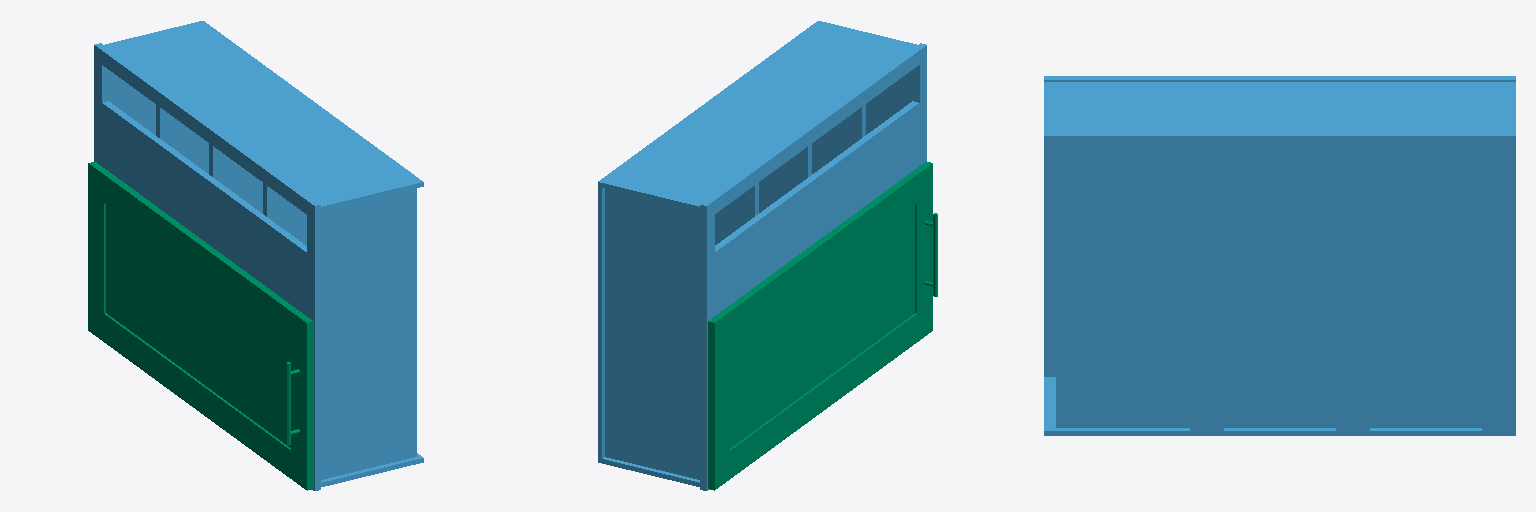
robot.urdf — partnet_ba6599d00e879e11c59350d819542ec7:
<?xml version="1.0" ?>
<robot name="partnet_ba6599d00e879e11c59350d819542ec7">
	<link name="base"/>
	<link name="link_0">
		<visual name="vertical_side_panel-6">
			<origin xyz="0 0 0"/>
			<geometry>
				<mesh filename="textured_objs/original-14.obj"/>
			</geometry>
		</visual>
		<visual name="vertical_side_panel-6">
			<origin xyz="0 0 0"/>
			<geometry>
				<mesh filename="textured_objs/original-15.obj"/>
			</geometry>
		</visual>
		<visual name="vertical_side_panel-7">
			<origin xyz="0 0 0"/>
			<geometry>
				<mesh filename="textured_objs/original-3.obj"/>
			</geometry>
		</visual>
		<visual name="vertical_side_panel-7">
			<origin xyz="0 0 0"/>
			<geometry>
				<mesh filename="textured_objs/original-2.obj"/>
			</geometry>
		</visual>
		<visual name="vertical_divider_panel-8">
			<origin xyz="0 0 0"/>
			<geometry>
				<mesh filename="textured_objs/original-22.obj"/>
			</geometry>
		</visual>
		<visual name="vertical_divider_panel-9">
			<origin xyz="0 0 0"/>
			<geometry>
				<mesh filename="textured_objs/original-21.obj"/>
			</geometry>
		</visual>
		<visual name="vertical_divider_panel-10">
			<origin xyz="0 0 0"/>
			<geometry>
				<mesh filename="textured_objs/original-19.obj"/>
			</geometry>
		</visual>
		<visual name="back_panel-11">
			<origin xyz="0 0 0"/>
			<geometry>
				<mesh filename="textured_objs/original-7.obj"/>
			</geometry>
		</visual>
		<visual name="back_panel-11">
			<origin xyz="0 0 0"/>
			<geometry>
				<mesh filename="textured_objs/original-8.obj"/>
			</geometry>
		</visual>
		<visual name="bottom_panel-12">
			<origin xyz="0 0 0"/>
			<geometry>
				<mesh filename="textured_objs/original-9.obj"/>
			</geometry>
		</visual>
		<visual name="top_panel-13">
			<origin xyz="0 0 0"/>
			<geometry>
				<mesh filename="textured_objs/original-10.obj"/>
			</geometry>
		</visual>
		<visual name="vertical_front_panel-14">
			<origin xyz="0 0 0"/>
			<geometry>
				<mesh filename="textured_objs/original-18.obj"/>
			</geometry>
		</visual>
		<visual name="frame_vertical_bar-15">
			<origin xyz="0 0 0"/>
			<geometry>
				<mesh filename="textured_objs/original-5.obj"/>
			</geometry>
		</visual>
		<visual name="frame_vertical_bar-16">
			<origin xyz="0 0 0"/>
			<geometry>
				<mesh filename="textured_objs/original-16.obj"/>
			</geometry>
		</visual>
		<visual name="frame_vertical_bar-17">
			<origin xyz="0 0 0"/>
			<geometry>
				<mesh filename="textured_objs/original-4.obj"/>
			</geometry>
		</visual>
		<visual name="frame_vertical_bar-18">
			<origin xyz="0 0 0"/>
			<geometry>
				<mesh filename="textured_objs/original-20.obj"/>
			</geometry>
		</visual>
		<visual name="frame_vertical_bar-19">
			<origin xyz="0 0 0"/>
			<geometry>
				<mesh filename="textured_objs/original-17.obj"/>
			</geometry>
		</visual>
		<visual name="frame_horizontal_bar-20">
			<origin xyz="0 0 0"/>
			<geometry>
				<mesh filename="textured_objs/original-12.obj"/>
			</geometry>
		</visual>
		<visual name="frame_horizontal_bar-21">
			<origin xyz="0 0 0"/>
			<geometry>
				<mesh filename="textured_objs/original-11.obj"/>
			</geometry>
		</visual>
		<visual name="other_leaf-23">
			<origin xyz="0 0 0"/>
			<geometry>
				<mesh filename="textured_objs/original-35.obj"/>
			</geometry>
		</visual>
		<collision>
			<origin xyz="0 0 0"/>
			<geometry>
				<mesh filename="textured_objs/original-14.obj"/>
			</geometry>
		</collision>
		<collision>
			<origin xyz="0 0 0"/>
			<geometry>
				<mesh filename="textured_objs/original-15.obj"/>
			</geometry>
		</collision>
		<collision>
			<origin xyz="0 0 0"/>
			<geometry>
				<mesh filename="textured_objs/original-3.obj"/>
			</geometry>
		</collision>
		<collision>
			<origin xyz="0 0 0"/>
			<geometry>
				<mesh filename="textured_objs/original-2.obj"/>
			</geometry>
		</collision>
		<collision>
			<origin xyz="0 0 0"/>
			<geometry>
				<mesh filename="textured_objs/original-22.obj"/>
			</geometry>
		</collision>
		<collision>
			<origin xyz="0 0 0"/>
			<geometry>
				<mesh filename="textured_objs/original-21.obj"/>
			</geometry>
		</collision>
		<collision>
			<origin xyz="0 0 0"/>
			<geometry>
				<mesh filename="textured_objs/original-19.obj"/>
			</geometry>
		</collision>
		<collision>
			<origin xyz="0 0 0"/>
			<geometry>
				<mesh filename="textured_objs/original-7.obj"/>
			</geometry>
		</collision>
		<collision>
			<origin xyz="0 0 0"/>
			<geometry>
				<mesh filename="textured_objs/original-8.obj"/>
			</geometry>
		</collision>
		<collision>
			<origin xyz="0 0 0"/>
			<geometry>
				<mesh filename="textured_objs/original-9.obj"/>
			</geometry>
		</collision>
		<collision>
			<origin xyz="0 0 0"/>
			<geometry>
				<mesh filename="textured_objs/original-10.obj"/>
			</geometry>
		</collision>
		<collision>
			<origin xyz="0 0 0"/>
			<geometry>
				<mesh filename="textured_objs/original-18.obj"/>
			</geometry>
		</collision>
		<collision>
			<origin xyz="0 0 0"/>
			<geometry>
				<mesh filename="textured_objs/original-5.obj"/>
			</geometry>
		</collision>
		<collision>
			<origin xyz="0 0 0"/>
			<geometry>
				<mesh filename="textured_objs/original-16.obj"/>
			</geometry>
		</collision>
		<collision>
			<origin xyz="0 0 0"/>
			<geometry>
				<mesh filename="textured_objs/original-4.obj"/>
			</geometry>
		</collision>
		<collision>
			<origin xyz="0 0 0"/>
			<geometry>
				<mesh filename="textured_objs/original-20.obj"/>
			</geometry>
		</collision>
		<collision>
			<origin xyz="0 0 0"/>
			<geometry>
				<mesh filename="textured_objs/original-17.obj"/>
			</geometry>
		</collision>
		<collision>
			<origin xyz="0 0 0"/>
			<geometry>
				<mesh filename="textured_objs/original-12.obj"/>
			</geometry>
		</collision>
		<collision>
			<origin xyz="0 0 0"/>
			<geometry>
				<mesh filename="textured_objs/original-11.obj"/>
			</geometry>
		</collision>
		<collision>
			<origin xyz="0 0 0"/>
			<geometry>
				<mesh filename="textured_objs/original-35.obj"/>
			</geometry>
		</collision>
	</link>
	<joint name="joint_0" type="fixed">
		<origin rpy="1.570796326794897 0 -1.570796326794897" xyz="0 0 0"/>
		<child link="link_0"/>
		<parent link="base"/>
	</joint>
	<link name="link_1">
		<visual name="cabinet_door_surface-4">
			<origin xyz="0.8204642587789052 -0.1227559968829155 -0.2499199378549572"/>
			<geometry>
				<mesh filename="textured_objs/original-29.obj"/>
			</geometry>
		</visual>
		<visual name="cabinet_door_surface-4">
			<origin xyz="0.8204642587789052 -0.1227559968829155 -0.2499199378549572"/>
			<geometry>
				<mesh filename="textured_objs/original-25.obj"/>
			</geometry>
		</visual>
		<visual name="cabinet_door_surface-4">
			<origin xyz="0.8204642587789052 -0.1227559968829155 -0.2499199378549572"/>
			<geometry>
				<mesh filename="textured_objs/original-27.obj"/>
			</geometry>
		</visual>
		<visual name="cabinet_door_surface-4">
			<origin xyz="0.8204642587789052 -0.1227559968829155 -0.2499199378549572"/>
			<geometry>
				<mesh filename="textured_objs/original-24.obj"/>
			</geometry>
		</visual>
		<visual name="cabinet_door_surface-4">
			<origin xyz="0.8204642587789052 -0.1227559968829155 -0.2499199378549572"/>
			<geometry>
				<mesh filename="textured_objs/original-26.obj"/>
			</geometry>
		</visual>
		<visual name="cabinet_door_surface-4">
			<origin xyz="0.8204642587789052 -0.1227559968829155 -0.2499199378549572"/>
			<geometry>
				<mesh filename="textured_objs/original-30.obj"/>
			</geometry>
		</visual>
		<visual name="handle-5">
			<origin xyz="0.8204642587789052 -0.1227559968829155 -0.2499199378549572"/>
			<geometry>
				<mesh filename="textured_objs/original-34.obj"/>
			</geometry>
		</visual>
		<visual name="handle-5">
			<origin xyz="0.8204642587789052 -0.1227559968829155 -0.2499199378549572"/>
			<geometry>
				<mesh filename="textured_objs/original-33.obj"/>
			</geometry>
		</visual>
		<visual name="handle-5">
			<origin xyz="0.8204642587789052 -0.1227559968829155 -0.2499199378549572"/>
			<geometry>
				<mesh filename="textured_objs/original-32.obj"/>
			</geometry>
		</visual>
		<collision>
			<origin xyz="0.8204642587789052 -0.1227559968829155 -0.2499199378549572"/>
			<geometry>
				<mesh filename="textured_objs/original-29.obj"/>
			</geometry>
		</collision>
		<collision>
			<origin xyz="0.8204642587789052 -0.1227559968829155 -0.2499199378549572"/>
			<geometry>
				<mesh filename="textured_objs/original-25.obj"/>
			</geometry>
		</collision>
		<collision>
			<origin xyz="0.8204642587789052 -0.1227559968829155 -0.2499199378549572"/>
			<geometry>
				<mesh filename="textured_objs/original-27.obj"/>
			</geometry>
		</collision>
		<collision>
			<origin xyz="0.8204642587789052 -0.1227559968829155 -0.2499199378549572"/>
			<geometry>
				<mesh filename="textured_objs/original-24.obj"/>
			</geometry>
		</collision>
		<collision>
			<origin xyz="0.8204642587789052 -0.1227559968829155 -0.2499199378549572"/>
			<geometry>
				<mesh filename="textured_objs/original-26.obj"/>
			</geometry>
		</collision>
		<collision>
			<origin xyz="0.8204642587789052 -0.1227559968829155 -0.2499199378549572"/>
			<geometry>
				<mesh filename="textured_objs/original-30.obj"/>
			</geometry>
		</collision>
		<collision>
			<origin xyz="0.8204642587789052 -0.1227559968829155 -0.2499199378549572"/>
			<geometry>
				<mesh filename="textured_objs/original-34.obj"/>
			</geometry>
		</collision>
		<collision>
			<origin xyz="0.8204642587789052 -0.1227559968829155 -0.2499199378549572"/>
			<geometry>
				<mesh filename="textured_objs/original-33.obj"/>
			</geometry>
		</collision>
		<collision>
			<origin xyz="0.8204642587789052 -0.1227559968829155 -0.2499199378549572"/>
			<geometry>
				<mesh filename="textured_objs/original-32.obj"/>
			</geometry>
		</collision>
	</link>
	<joint name="joint_1" type="revolute">
		<origin xyz="-0.8204642587789052 0.1227559968829155 0.2499199378549572"/>
		<axis xyz="0 -0.9999999999999999 0"/>
		<child link="link_1"/>
		<parent link="link_0"/>
		<limit lower="-0.0" upper="1.3962634015954636"/>
	</joint>
</robot>

--- What the picture shows (computed from the rendered views, not written in the file) ---
Views: 3 orthographic renders of the robot side by side, from view 1: azimuth 30°, elevation 25°; view 2: azimuth 150°, elevation 25°; view 3: azimuth 270°, elevation 25°.
Model partnet_ba6599d00e879e11c59350d819542ec7 with 3 links and 2 joints (1 revolute, 1 fixed), rooted at base, posed every joint at zero.
Visible links, largest first — view 1: link_0, link_1; view 2: link_0, link_1; view 3: link_0.
Boxes of the visible links, x1,y1,x2,y2 form: link_0: (94,21,423,490); link_1: (88,162,313,490); link_0: (598,21,926,490); link_1: (708,161,937,490); link_0: (1044,76,1515,435).
Size in the robot's own frame: 0.5558 by 1.65 by 1.18 metres.
29 mesh visuals loaded from 29 distinct referenced files (29 OBJ).